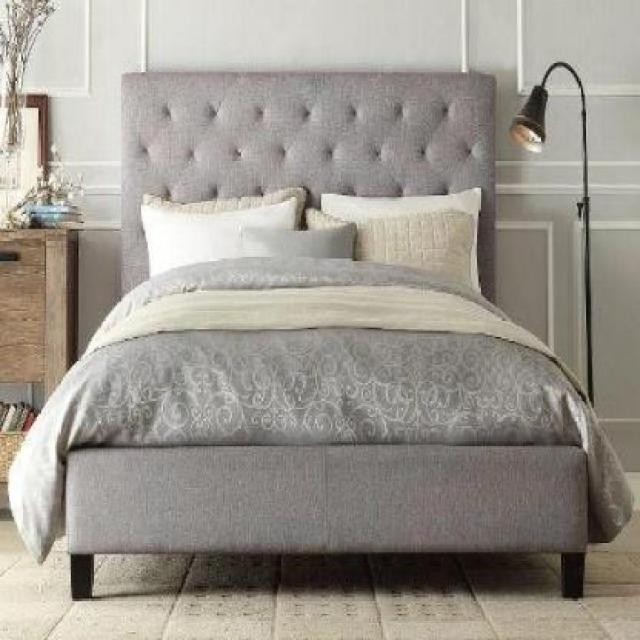Bed: (9, 58, 640, 614)
